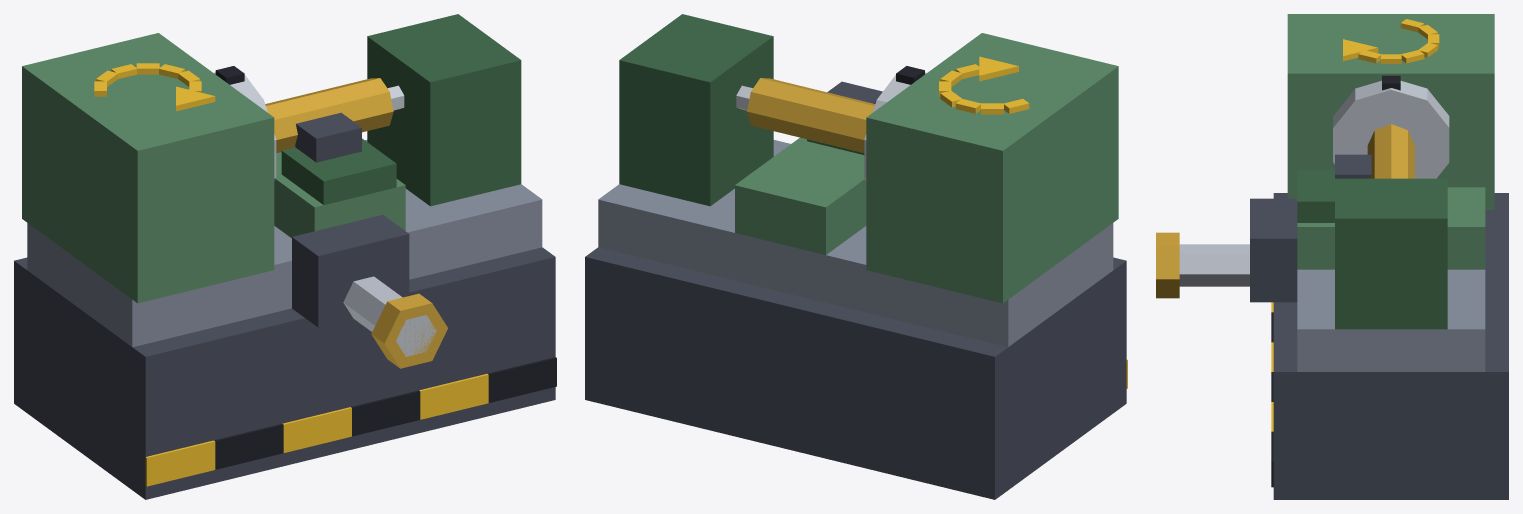
File: lathe-cw.glb
The picture shows the model from 3 angles, left to right: view 1: azimuth 30°, elevation 25°; view 2: azimuth 150°, elevation 25°; view 3: azimuth 270°, elevation 25°; orthographic projection. The views are drawn at different scales.
Parts seen in each view (by area): view 1: lathe-cw, slide-x, spin-x; view 2: lathe-cw, slide-x, spin-x; view 3: lathe-cw, spin-x, slide-x.
Part boxes in pixels (x1,y1,x2,y2): lathe-cw: [14, 14, 556, 499]; slide-x: [274, 112, 405, 238]; spin-x: [214, 66, 393, 181]; lathe-cw: [585, 14, 1127, 499]; slide-x: [735, 81, 882, 254]; spin-x: [747, 66, 926, 180]; lathe-cw: [1156, 14, 1508, 499]; spin-x: [1333, 75, 1449, 178]; slide-x: [1297, 154, 1485, 269].
Bounding box in the file's own units: 0.9 × 0.732 × 0.75.
3 materials, 3 textured.
